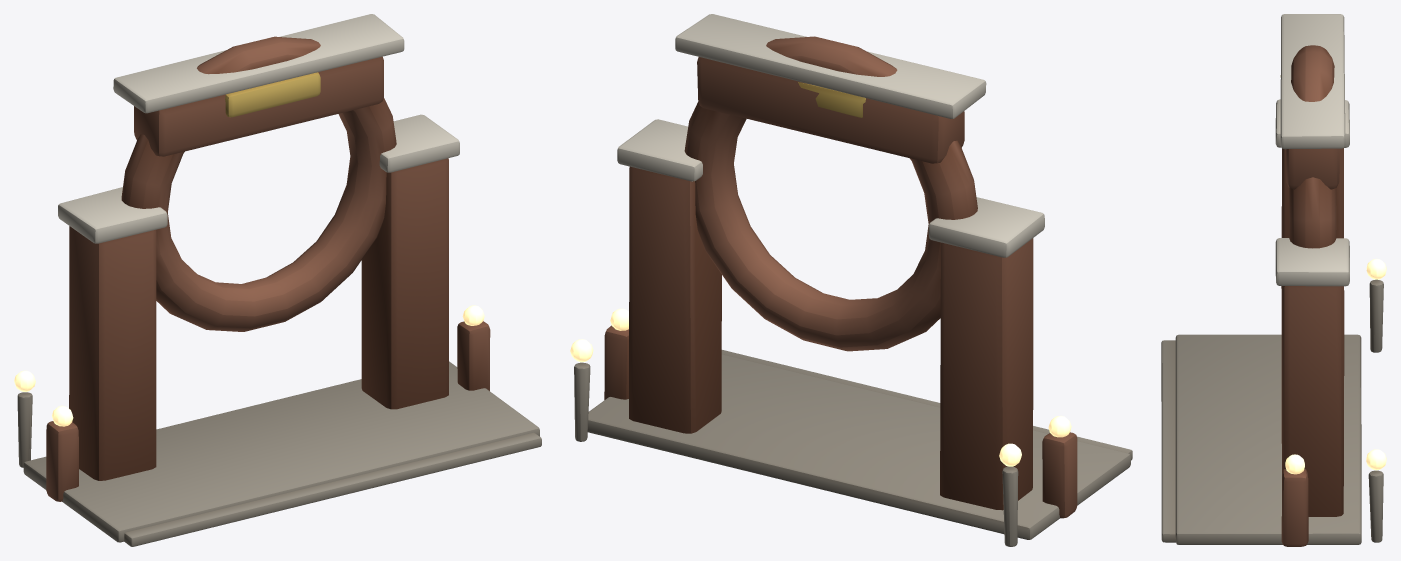
The picture shows the model from 3 angles, left to right: view 1: azimuth 30°, elevation 25°; view 2: azimuth 150°, elevation 25°; view 3: azimuth 270°, elevation 25°; orthographic projection. The views are drawn at different scales.
Visible parts, largest first — view 1: gate_5203074a; view 2: gate_5203074a; view 3: gate_5203074a.
Part boxes in pixels (box(x1,y1,x2,y2)): gate_5203074a: box(14, 14, 541, 546); gate_5203074a: box(570, 14, 1132, 546); gate_5203074a: box(1161, 14, 1386, 546).
Bounding box in the file's own units: 5.51 × 4.81 × 2.55.
